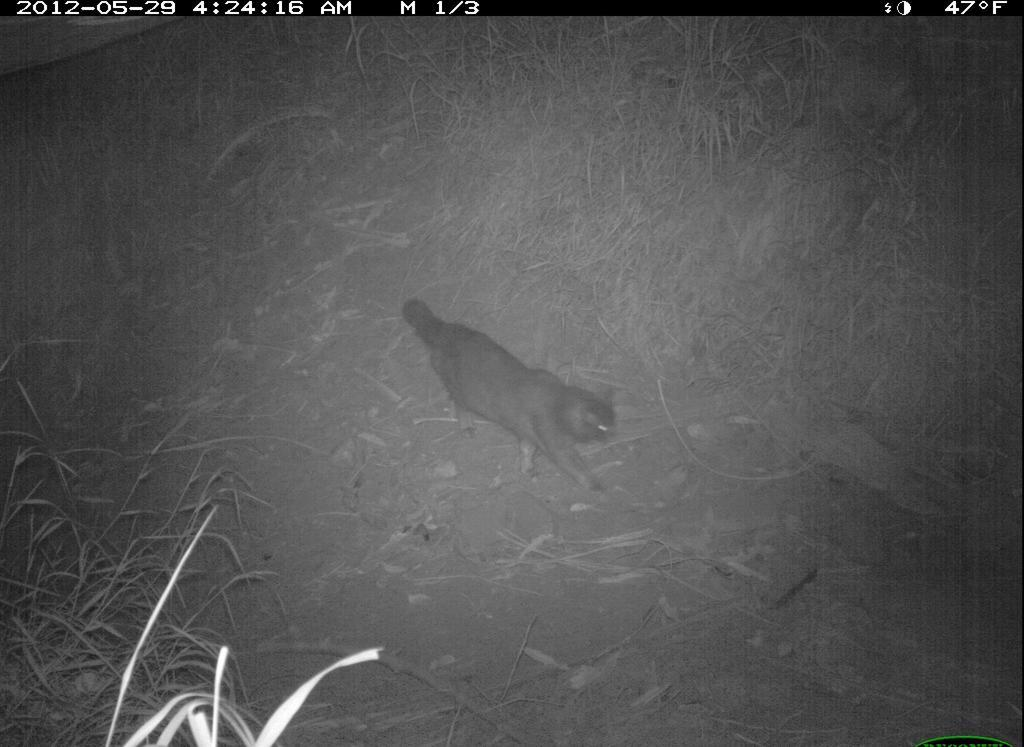cat: (372, 255, 673, 501)
